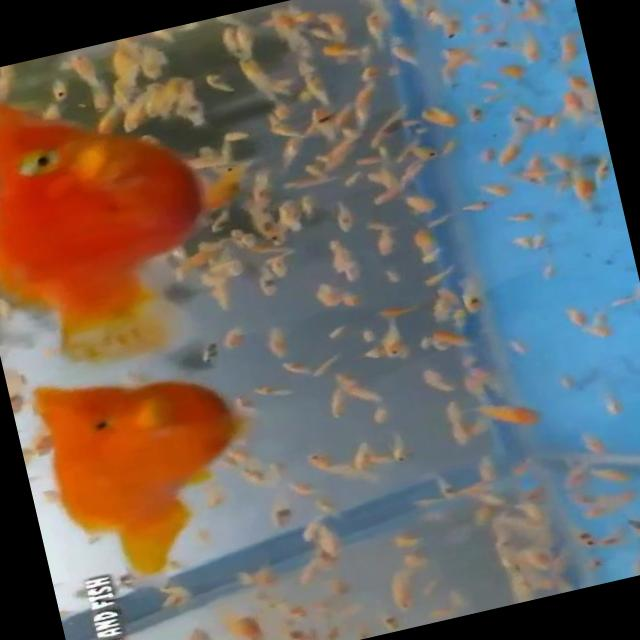PlatyFish: (0, 45, 257, 380), (14, 336, 276, 598)
